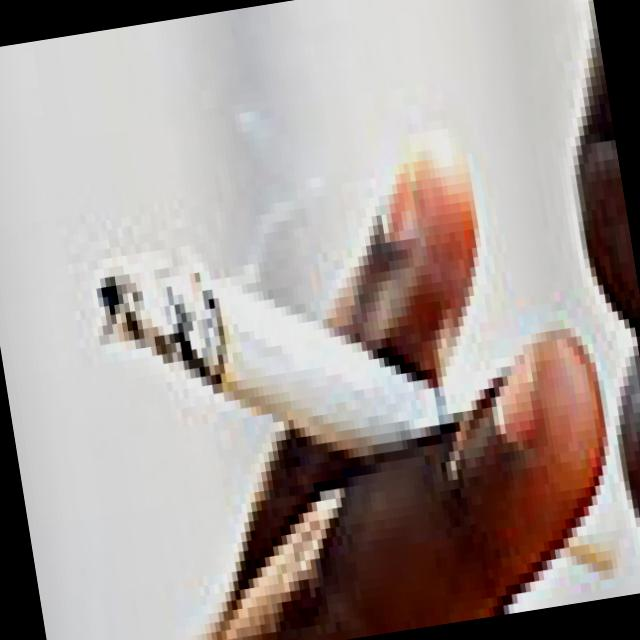smoke: (102, 204, 364, 482)
